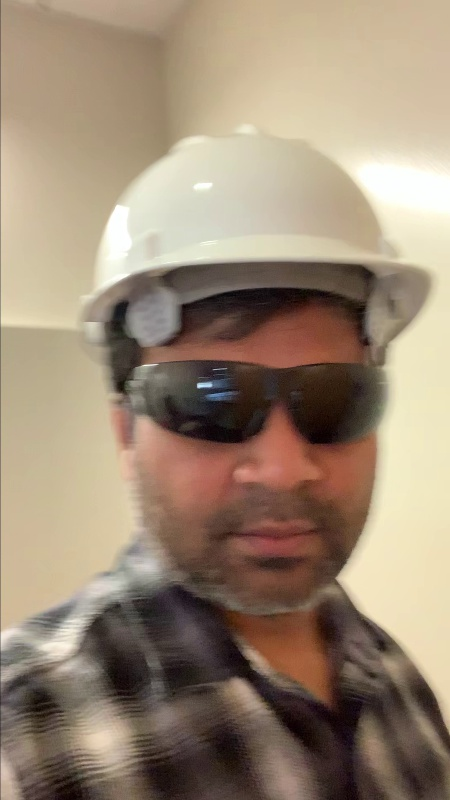glasses: (136, 361, 386, 443)
helmet: (93, 126, 409, 284)
